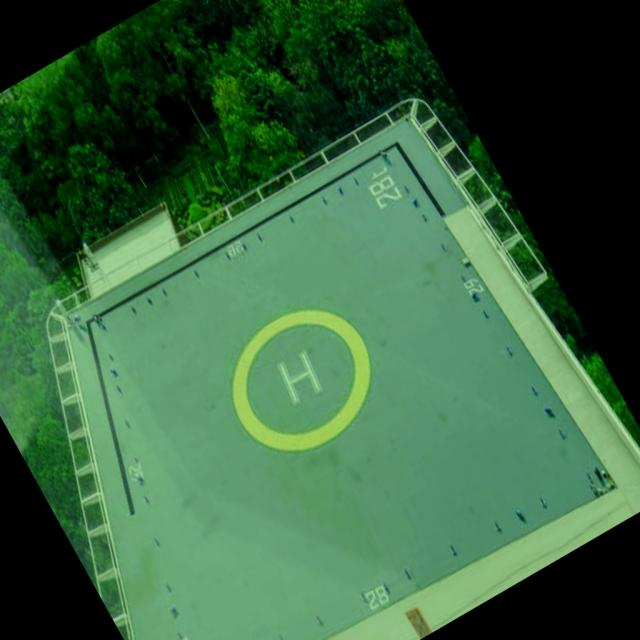helipad: (226, 304, 374, 456)
